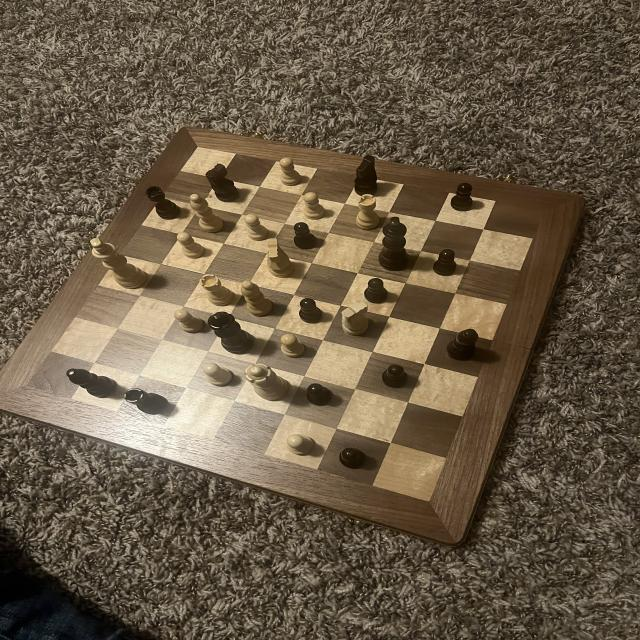bishop: (64, 366, 120, 401), (442, 327, 484, 361)
black-bishop: (376, 214, 411, 274)
black-king: (202, 159, 243, 205), (351, 153, 382, 199)
black-knight: (430, 246, 464, 278), (446, 182, 481, 213), (289, 220, 321, 253), (334, 444, 371, 472), (362, 275, 392, 305), (379, 362, 409, 390), (297, 296, 326, 324), (304, 382, 334, 408)
black-pawn: (206, 309, 256, 355)
black-queen: (121, 386, 172, 416), (145, 185, 186, 221)
black-rook: (187, 191, 229, 235), (240, 276, 277, 320)
white-bishop: (86, 236, 150, 294)
white-king: (260, 237, 298, 279), (337, 299, 377, 337)
white-knight: (240, 212, 276, 243), (277, 156, 308, 188), (176, 231, 208, 261), (284, 430, 318, 458), (171, 308, 206, 334), (299, 190, 330, 219), (202, 361, 235, 388), (277, 332, 308, 359)
white-pawn: (240, 362, 297, 404)
white-queen: (197, 273, 239, 307), (352, 194, 382, 234)
